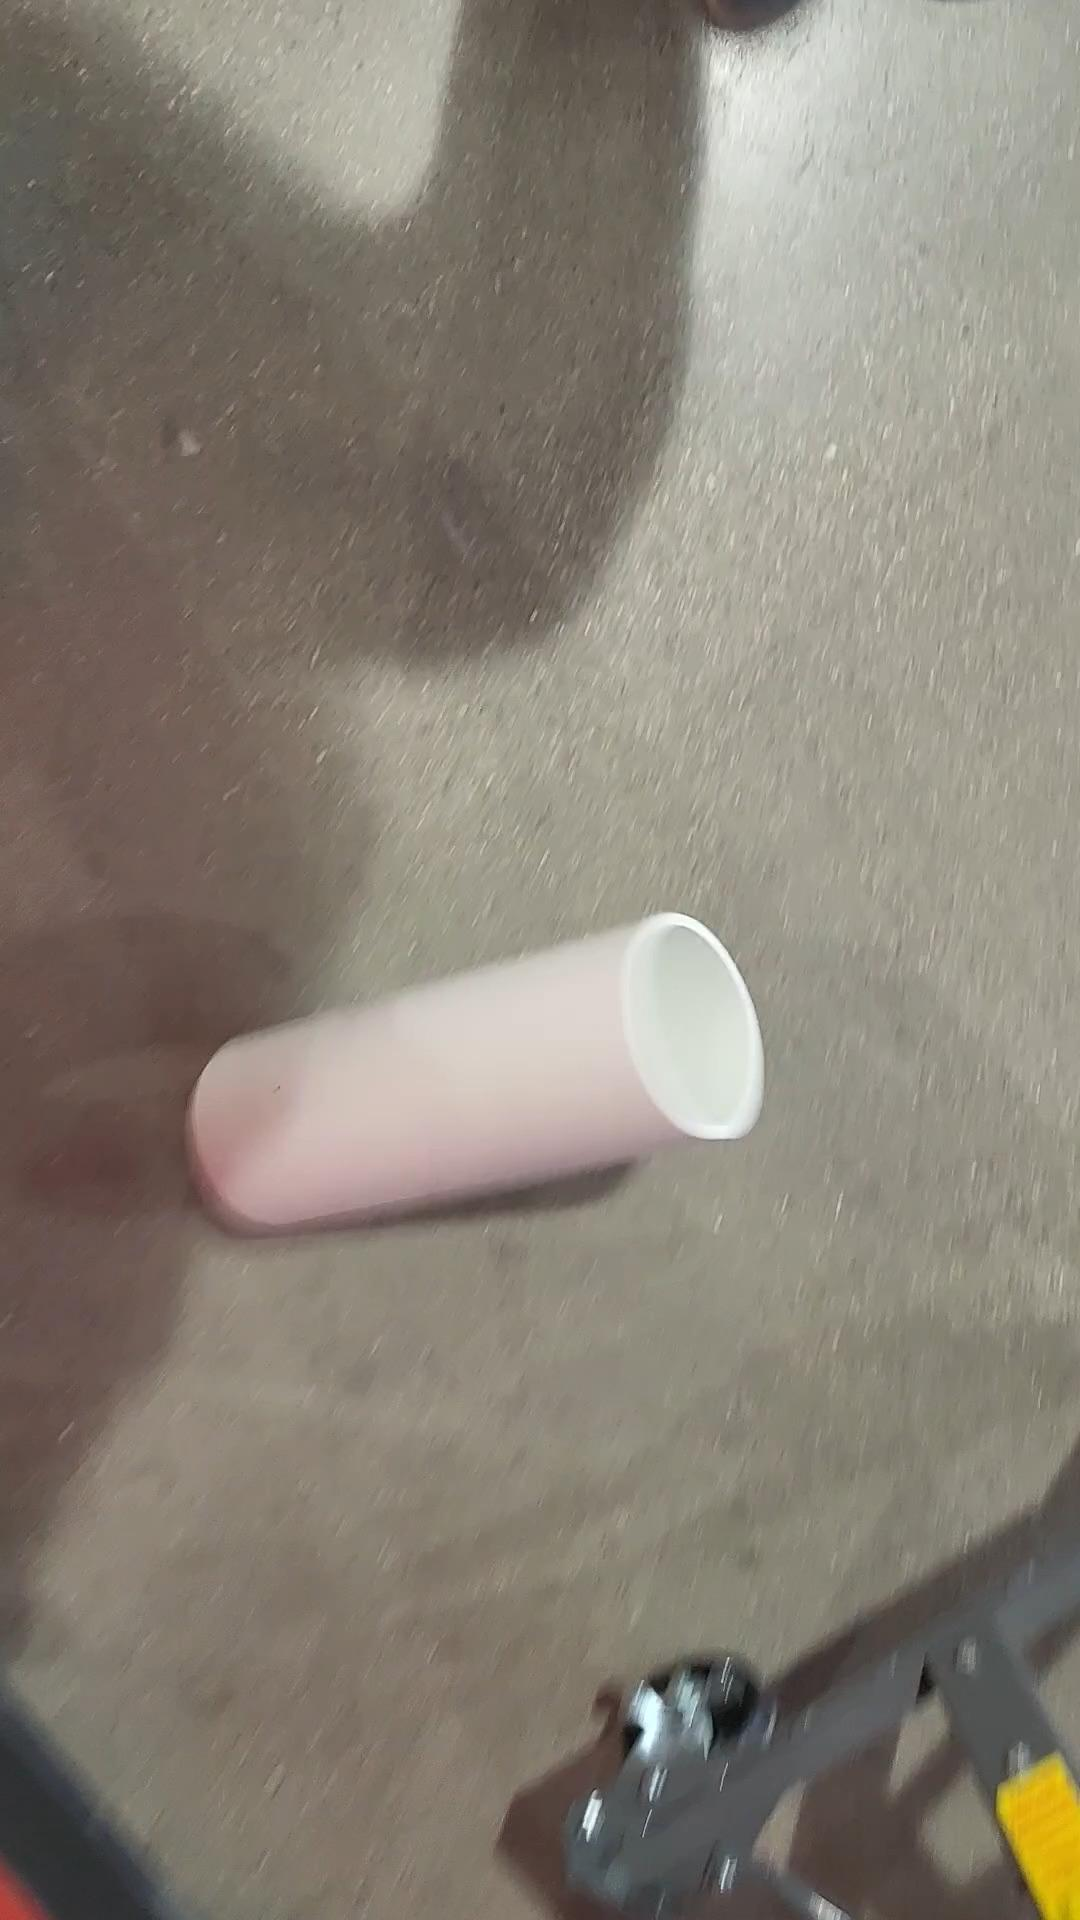coral: (187, 901, 787, 1244)
